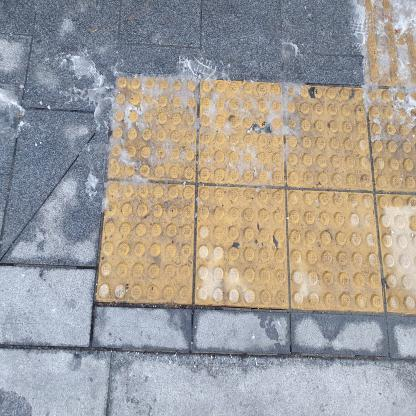podotacti: (91, 0, 415, 327)
